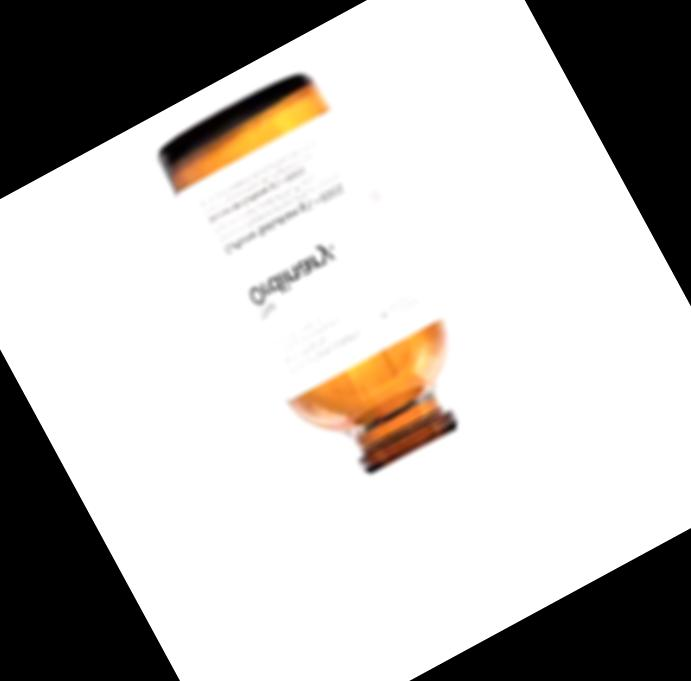cosmetic: (148, 66, 577, 646)
